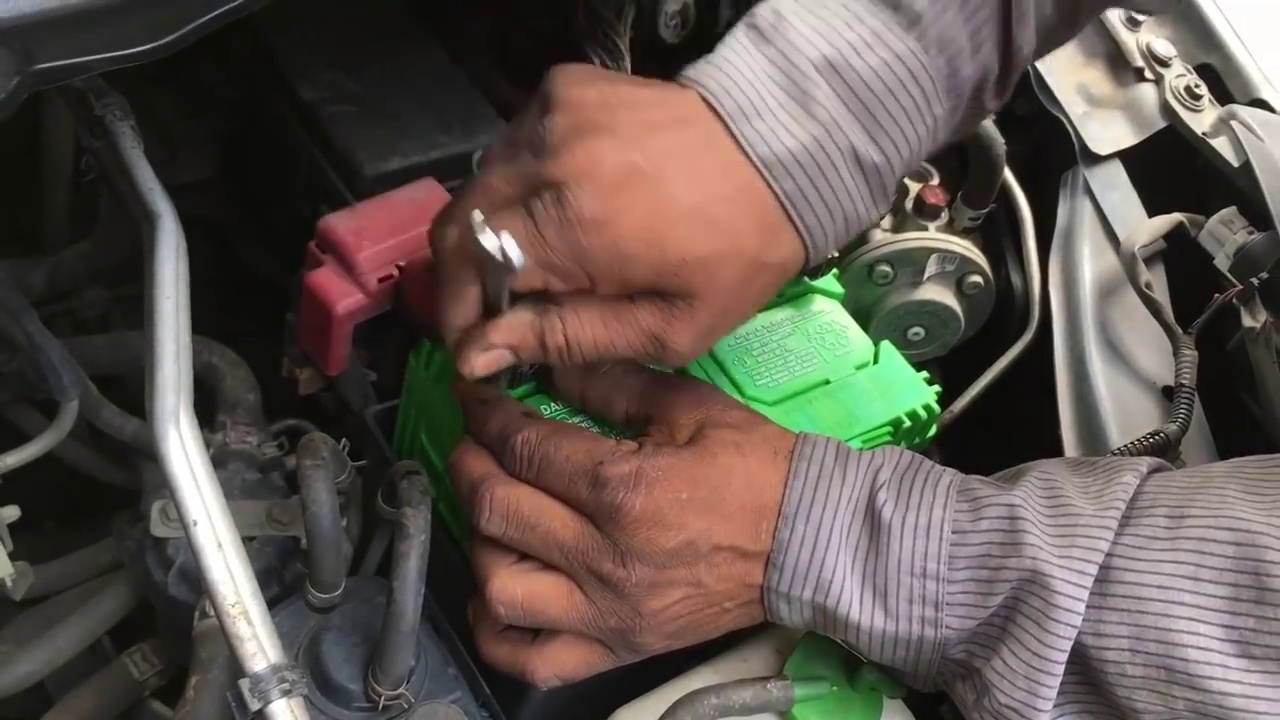battery: (417, 237, 941, 479)
pos_touched: (357, 171, 534, 396)
